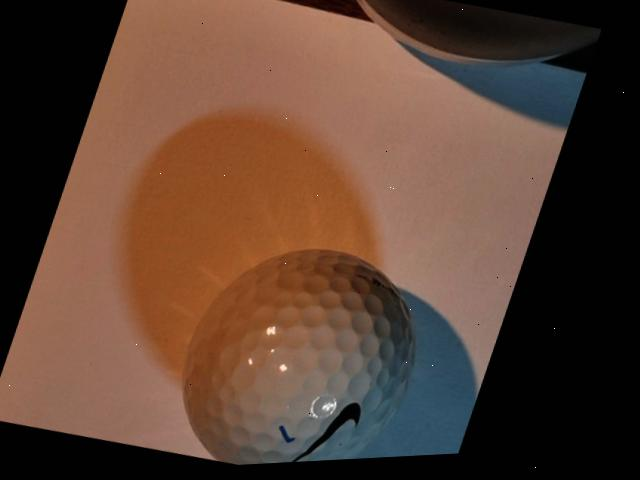Ball: (162, 225, 458, 473)
Nike: (293, 394, 375, 467)
